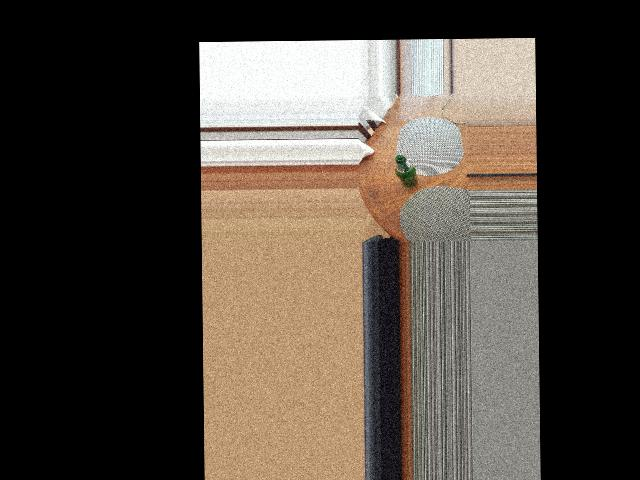beer: (394, 155, 417, 187)
